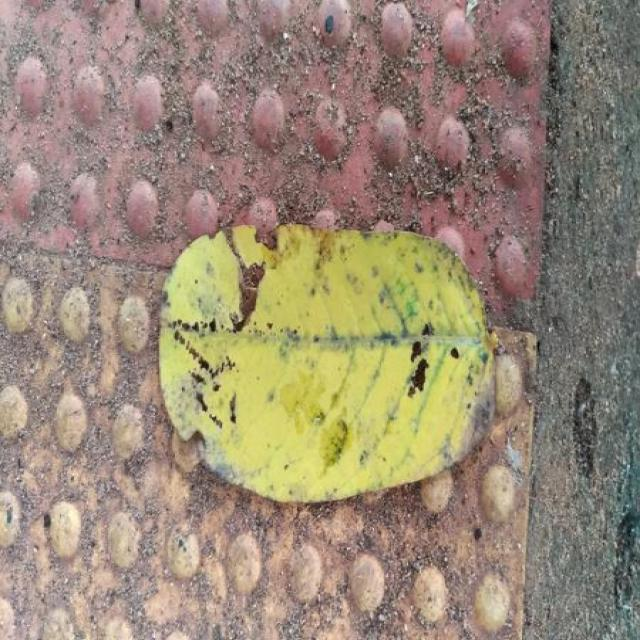alternaria blight: (160, 224, 493, 502)
